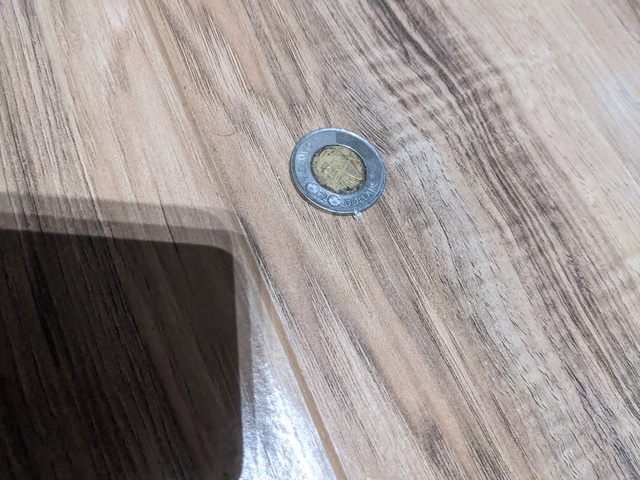twonie: (284, 124, 395, 222)
